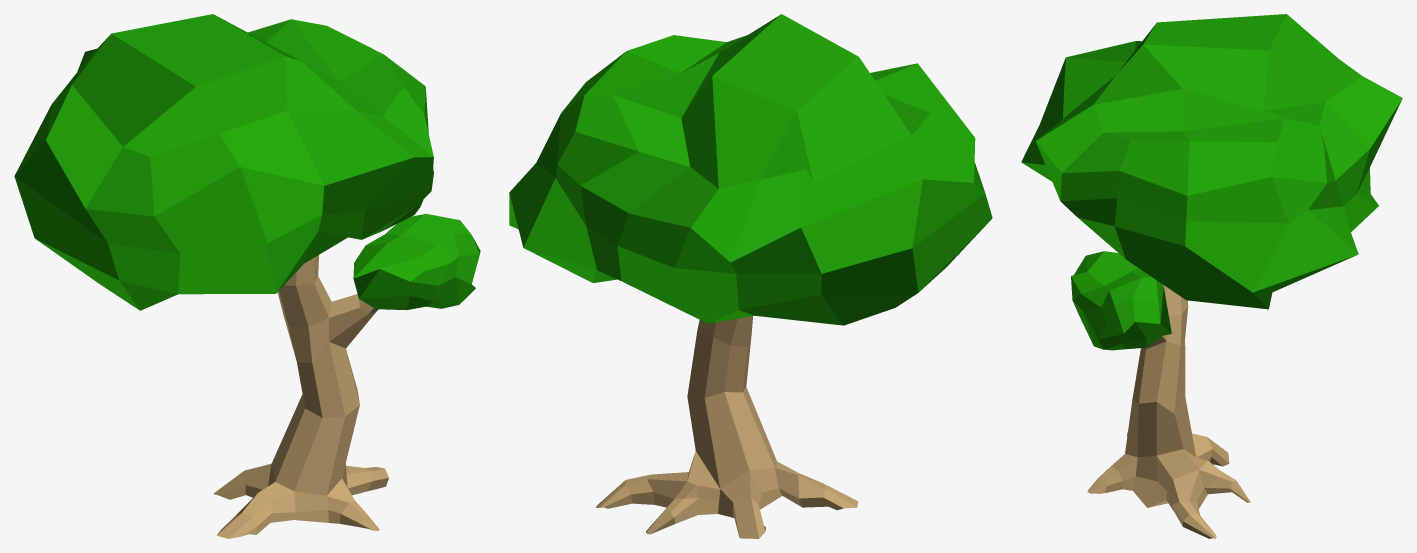
File: arbol.gltf
The picture shows the model from 3 angles, left to right: view 1: azimuth 30°, elevation 25°; view 2: azimuth 150°, elevation 25°; view 3: azimuth 270°, elevation 25°; orthographic projection. The views are drawn at different scales.
Visible parts, largest first — view 1: Cube.003, Cube, Cube.001; view 2: Cube.003, Cube; view 3: Cube.003, Cube, Cube.001.
Part boxes in pixels (left/top/right/bottom): Cube.003: left=14, top=14, right=433, bottom=310; Cube: left=213, top=255, right=388, bottom=538; Cube.001: left=353, top=214, right=480, bottom=310; Cube.003: left=509, top=14, right=992, bottom=325; Cube: left=596, top=316, right=858, bottom=538; Cube.003: left=1021, top=14, right=1402, bottom=309; Cube: left=1087, top=284, right=1250, bottom=538; Cube.001: left=1071, top=251, right=1171, bottom=350.
Size of the model in its own units: 18.28 by 21 by 16.75.
